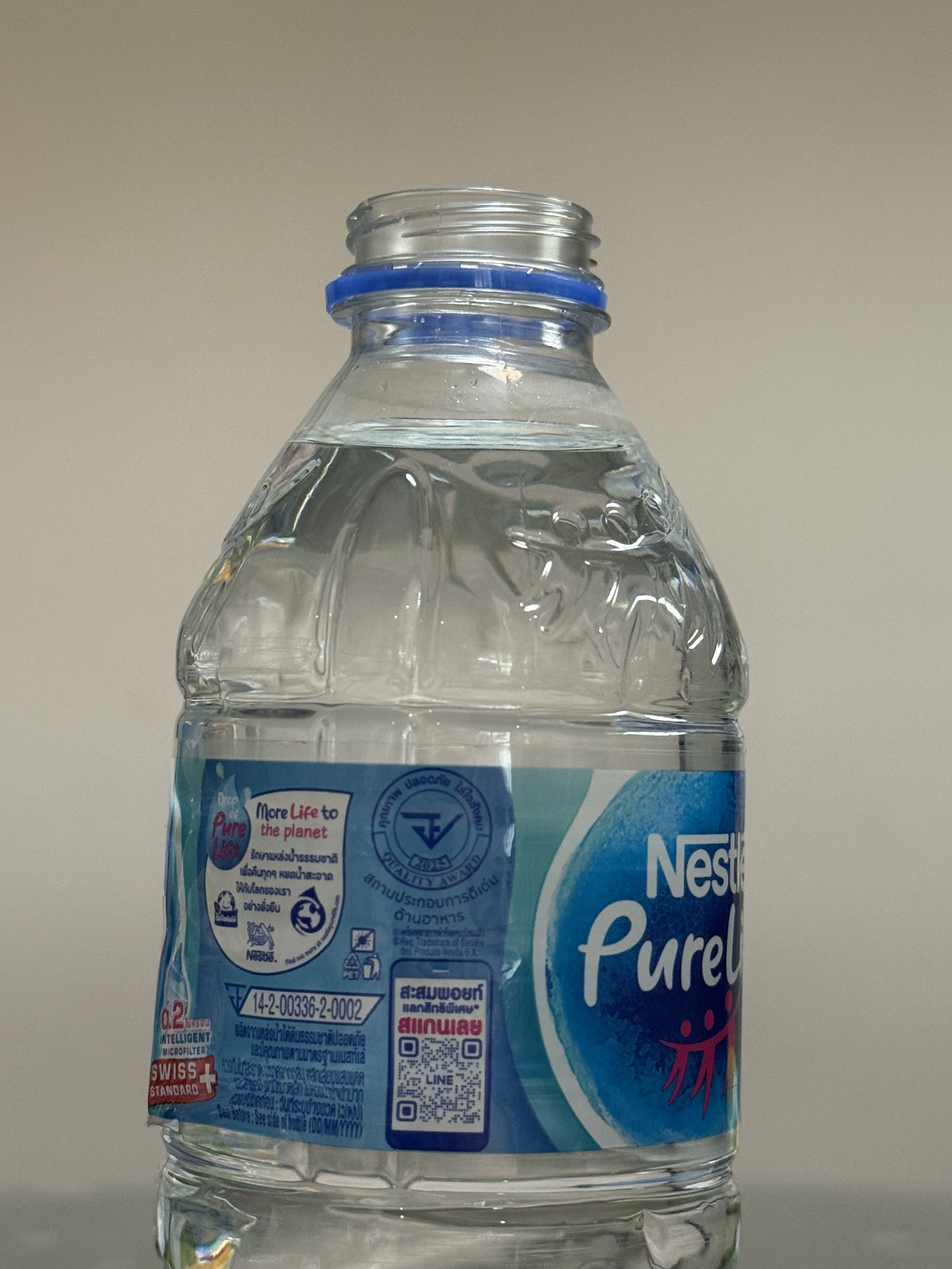no_cap: (321, 181, 609, 320)
